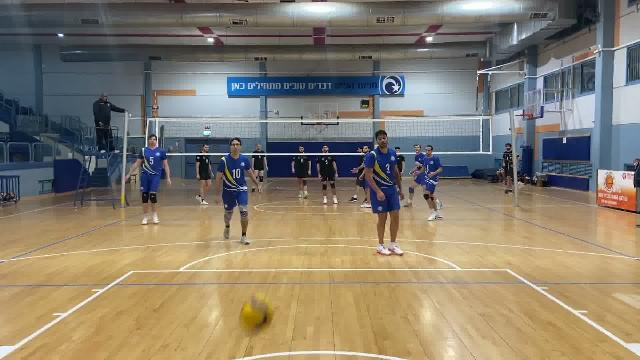ball: (235, 295, 275, 339)
